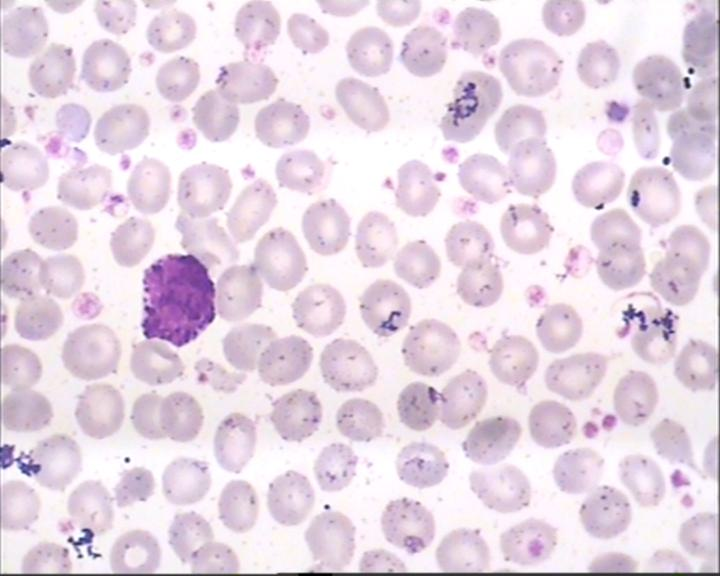baso: (132, 248, 223, 347)
